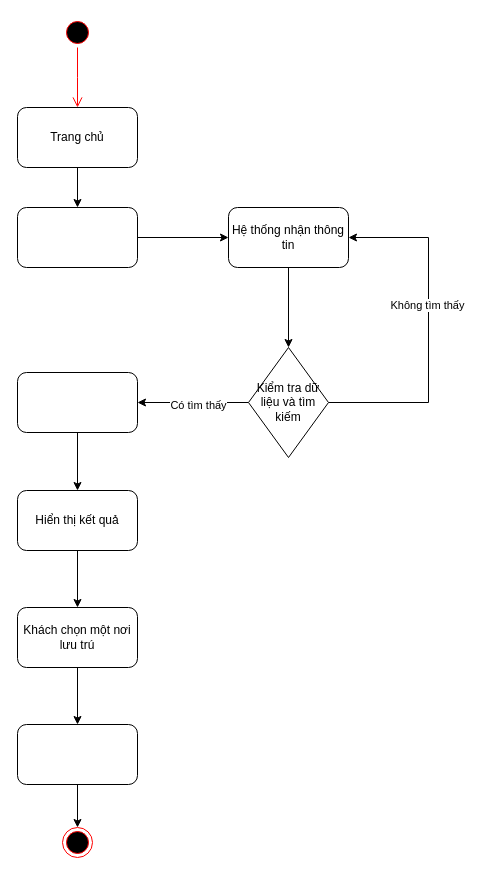
Some shapes in this 481 by 875 pixel diagram are drawn without their labels. Here are the shapes that lost their labels. From the top down, the centre of each, then its label:
At (77,237): "Nhập địa chỉ và tiêu chí tìm kiếm".
At (77,402): "Truy vấn khách sạn nơi lưu trú".
At (77,754): "Hiện thị thông tin chi tiết và phòng".
